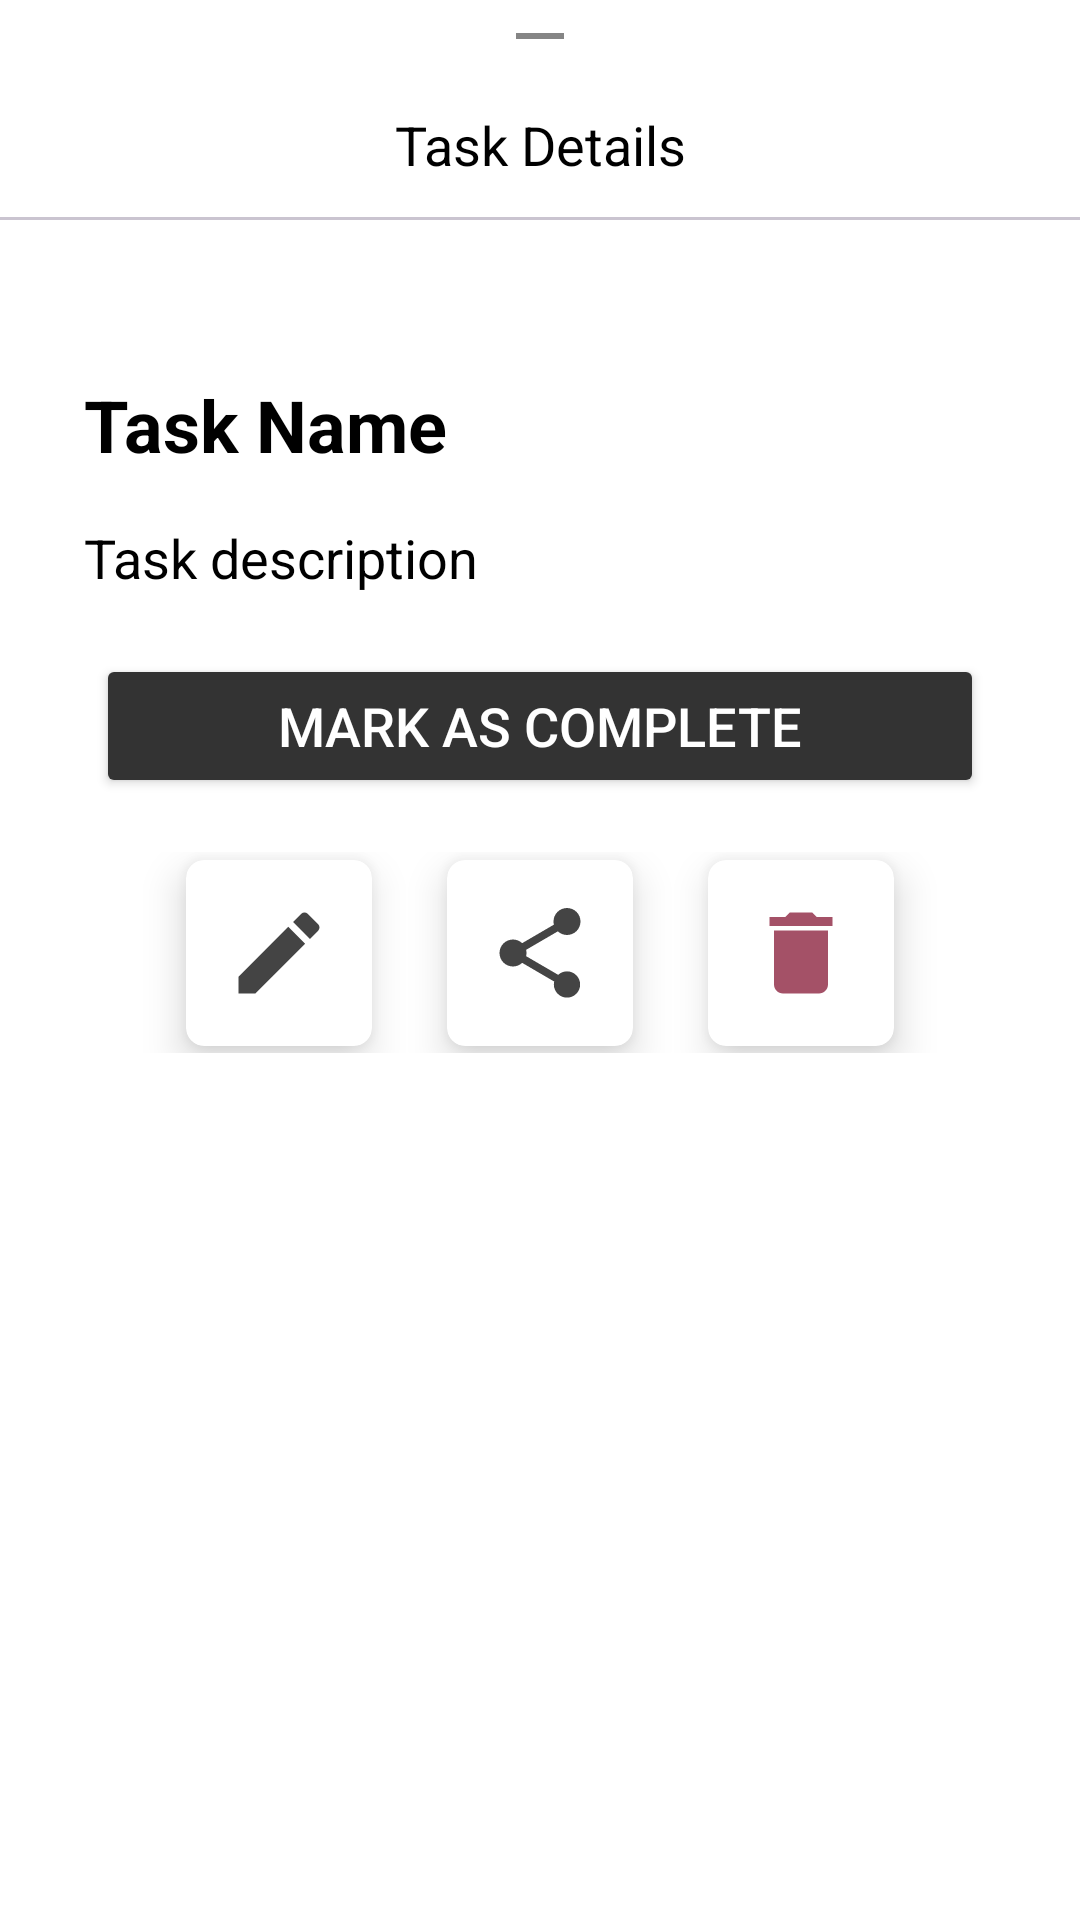

Locate icon controls on the screen. Image size 1080 × 1920, boxes as (x1, y1, x2, y2).
delete: (769, 912, 833, 994)
edit: (238, 912, 320, 994)
share: (499, 908, 581, 998)
